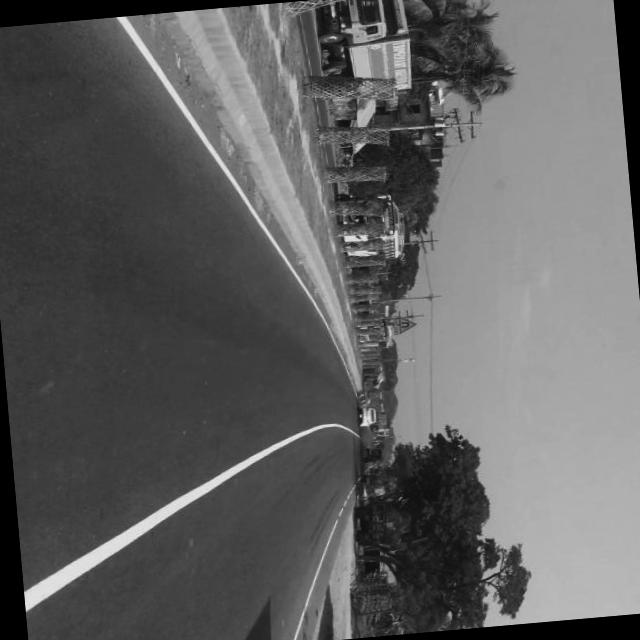bus: (340, 194, 408, 262)
car: (356, 405, 378, 430)
motorcycle: (353, 480, 387, 501), (356, 474, 385, 487), (361, 455, 380, 466)
truck: (311, 0, 417, 100), (352, 502, 391, 548)
